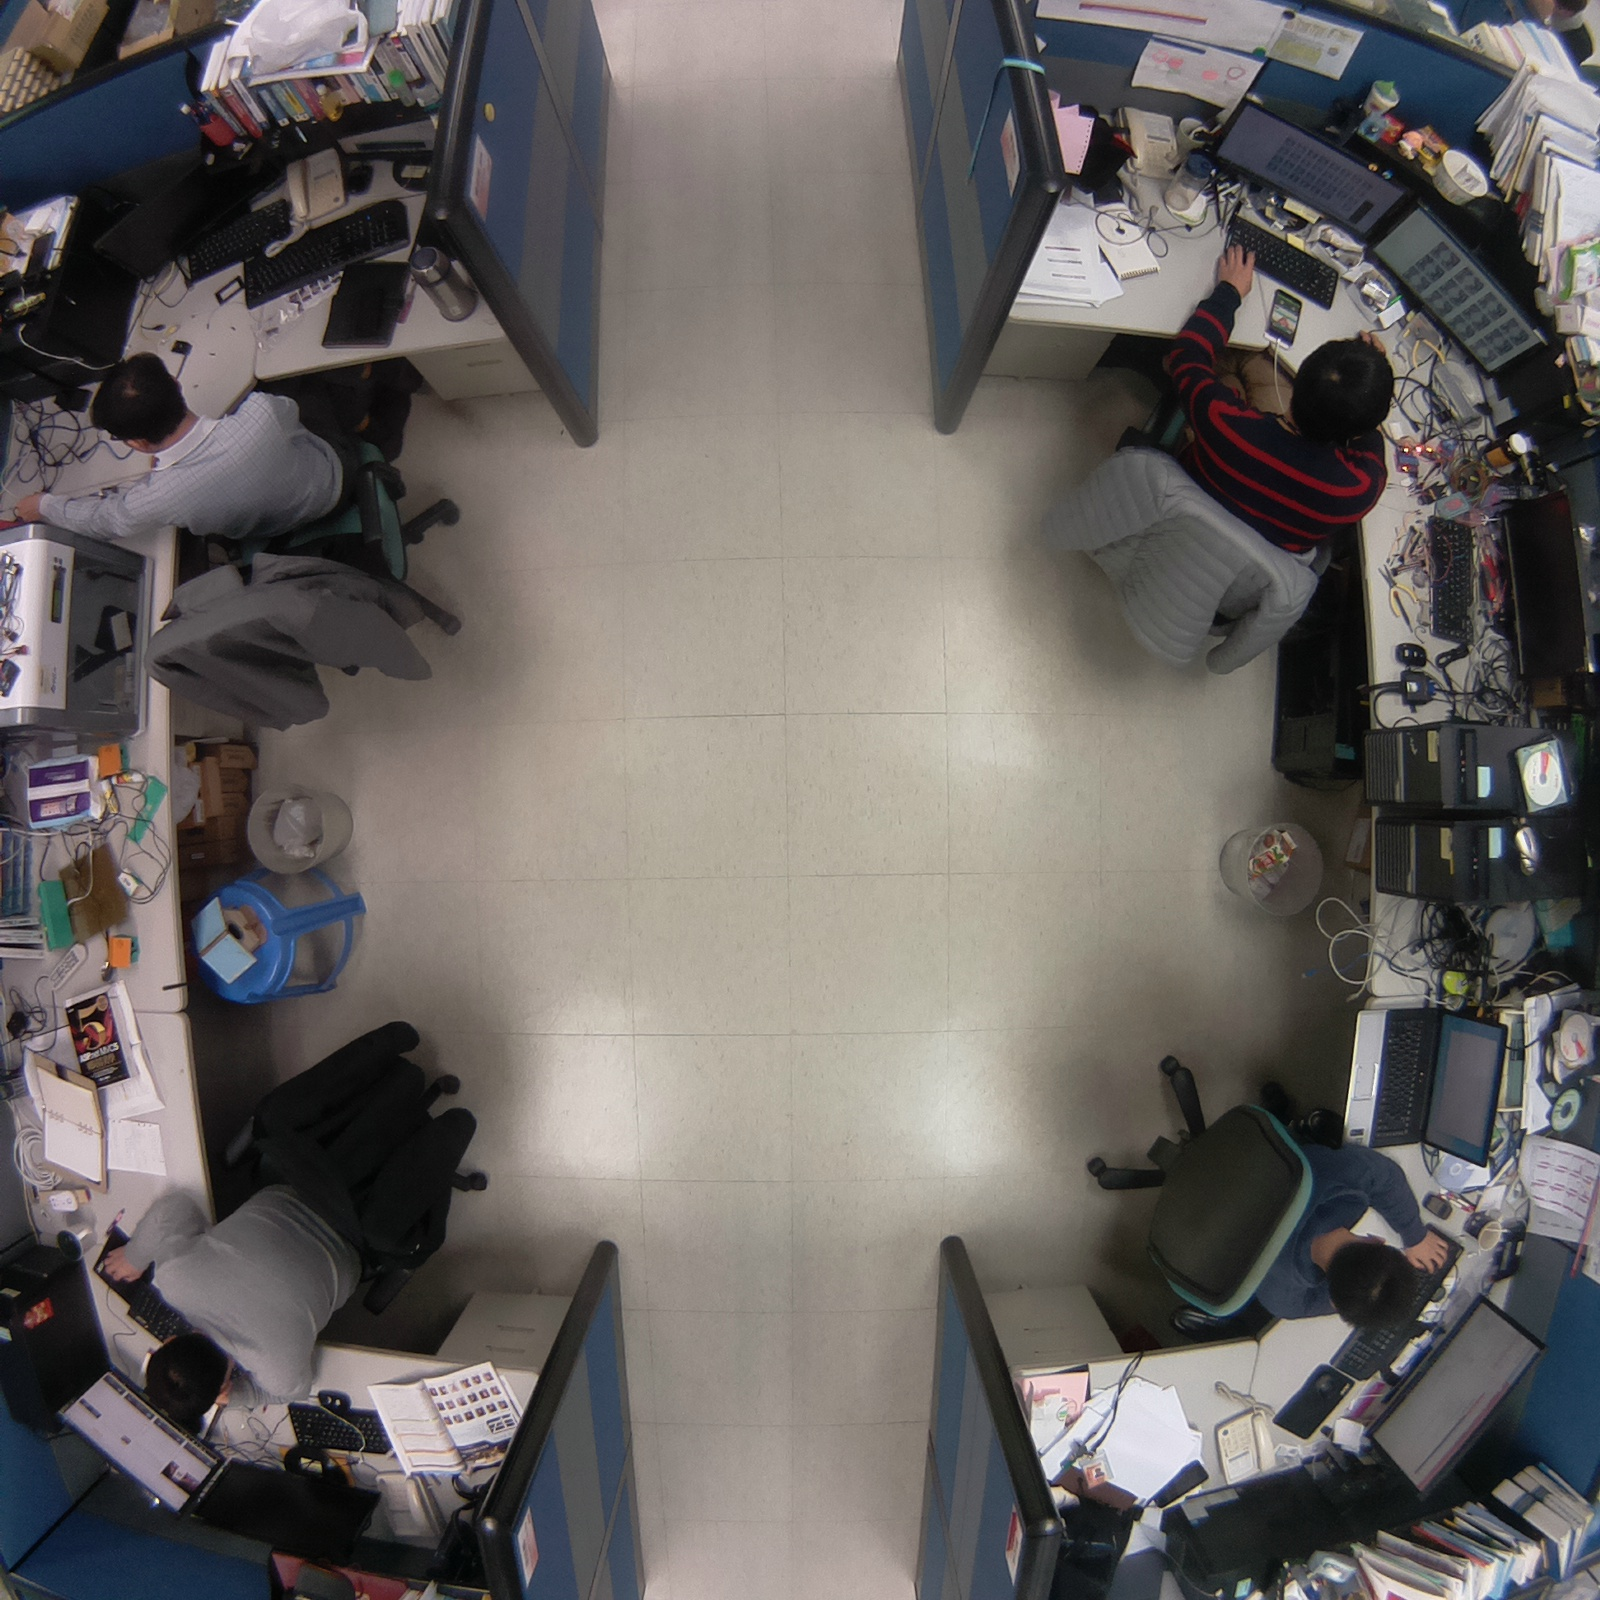head: (1285, 331, 1406, 440), (83, 348, 197, 457), (1321, 1234, 1429, 1338), (144, 1323, 236, 1425)
sitting: (17, 337, 478, 742), (1027, 214, 1414, 691), (94, 996, 512, 1429), (1055, 1045, 1445, 1358)
